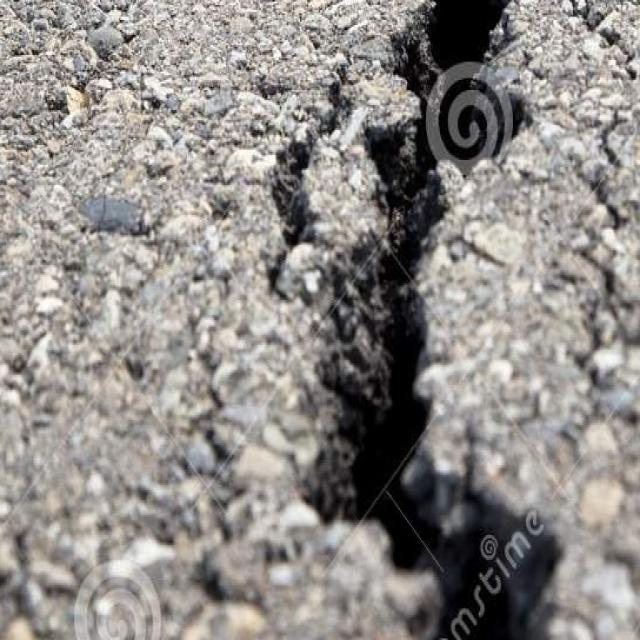Network: (268, 0, 588, 640)
